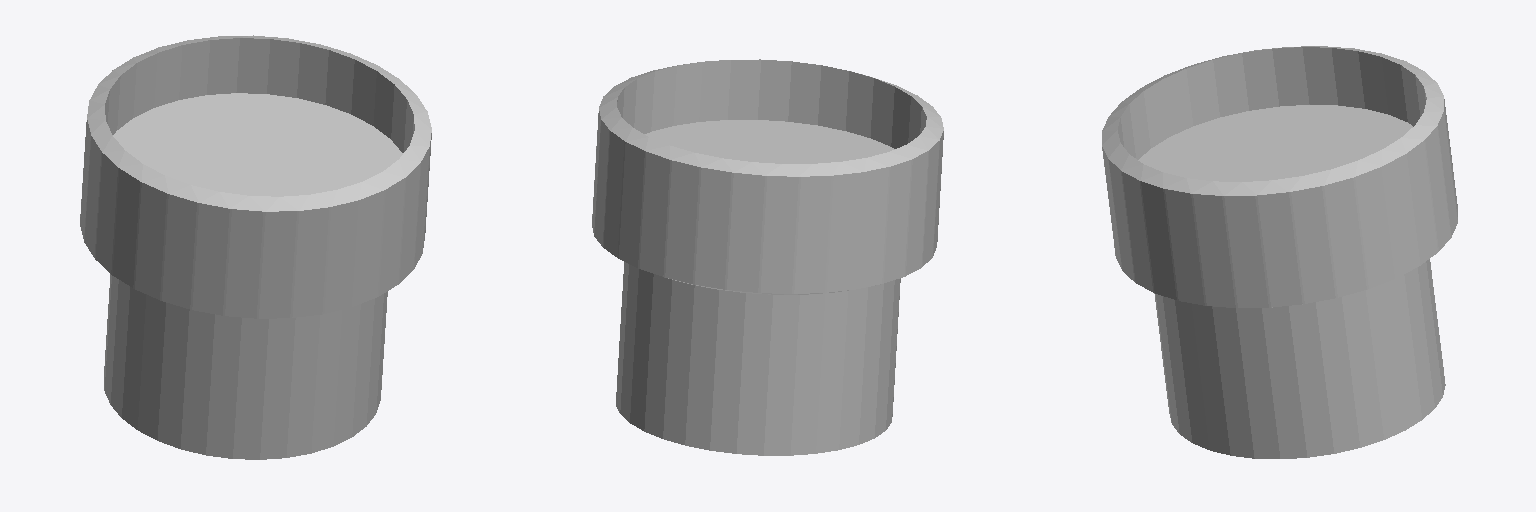
The model's file is Pipa.obj.
3 renders of one model, left to right at view 1: azimuth 30°, elevation 25°; view 2: azimuth 150°, elevation 25°; view 3: azimuth 270°, elevation 25°, orthographic.
Parts seen in each view (by area): view 1: Right_Pipe_Cilindro.002; view 2: Right_Pipe_Cilindro.002; view 3: Right_Pipe_Cilindro.002.
Part boxes in pixels (bbox=[...]): Right_Pipe_Cilindro.002: bbox=[80, 35, 431, 459]; Right_Pipe_Cilindro.002: bbox=[592, 59, 943, 455]; Right_Pipe_Cilindro.002: bbox=[1102, 46, 1457, 458].
Size of the model in its own units: 0.4955 by 0.4987 by 0.5124.